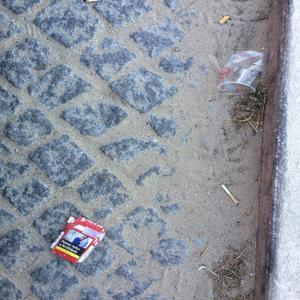cardboard: (49, 209, 110, 268)
plastic: (215, 47, 262, 95)
